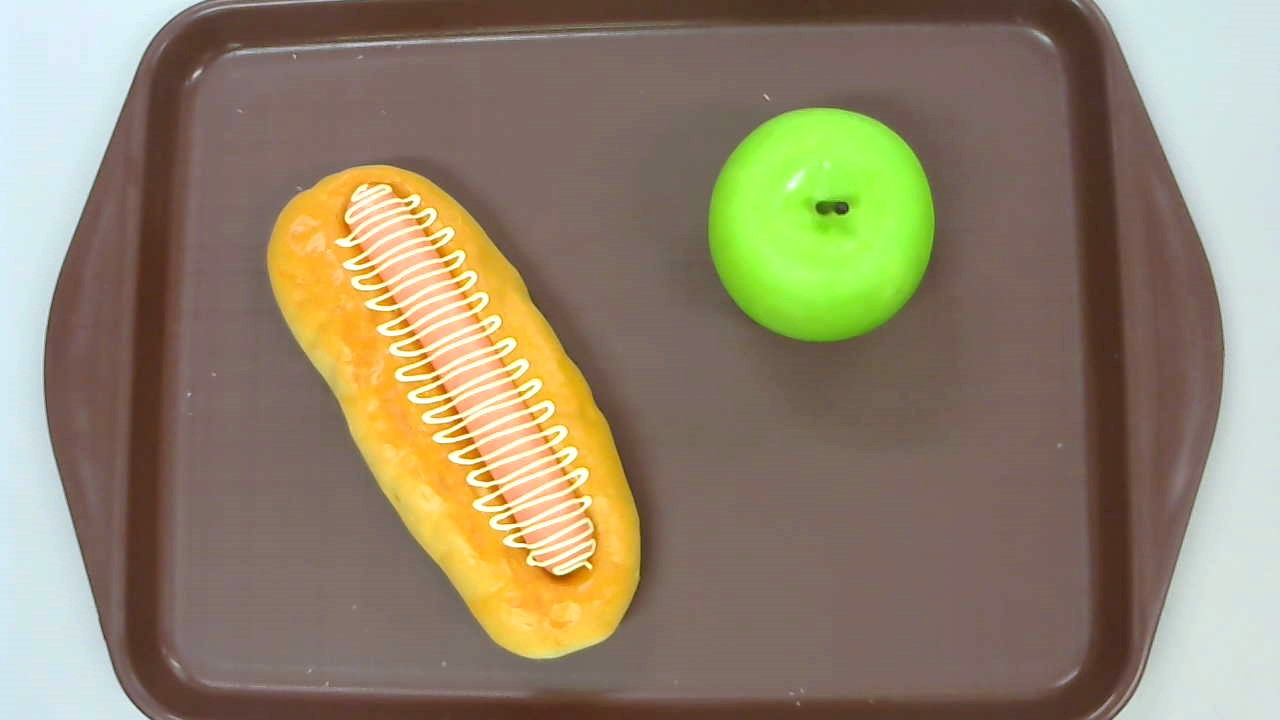green apple: (707, 106, 934, 343)
hot dog: (266, 163, 642, 659)
